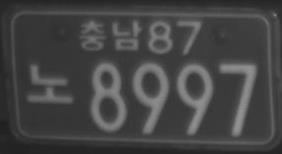7: (217, 62, 258, 138), (175, 18, 204, 57)
8: (88, 60, 127, 134), (147, 19, 174, 55)
9: (174, 61, 215, 138), (130, 60, 170, 137)
노: (25, 62, 74, 105)
충남_O: (78, 19, 142, 52)
